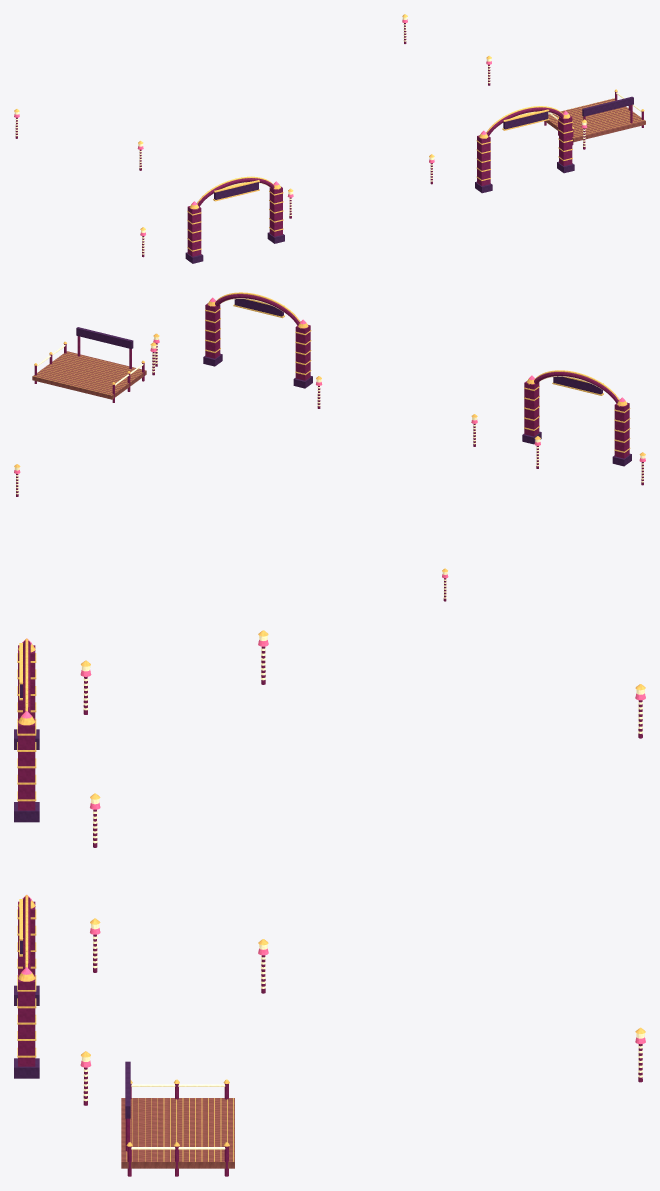
The model's file is Ticket-Quay-and-Candy-Gates.glb.
3 views of the same model, one above another, from view 1: azimuth 30°, elevation 25°; view 2: azimuth 150°, elevation 25°; view 3: azimuth 270°, elevation 25° (orthographic). The views are drawn at different scales.
Bounding box in the file's own units: 58.47 × 8.23 × 34.18.
38 materials, 38 textured.
